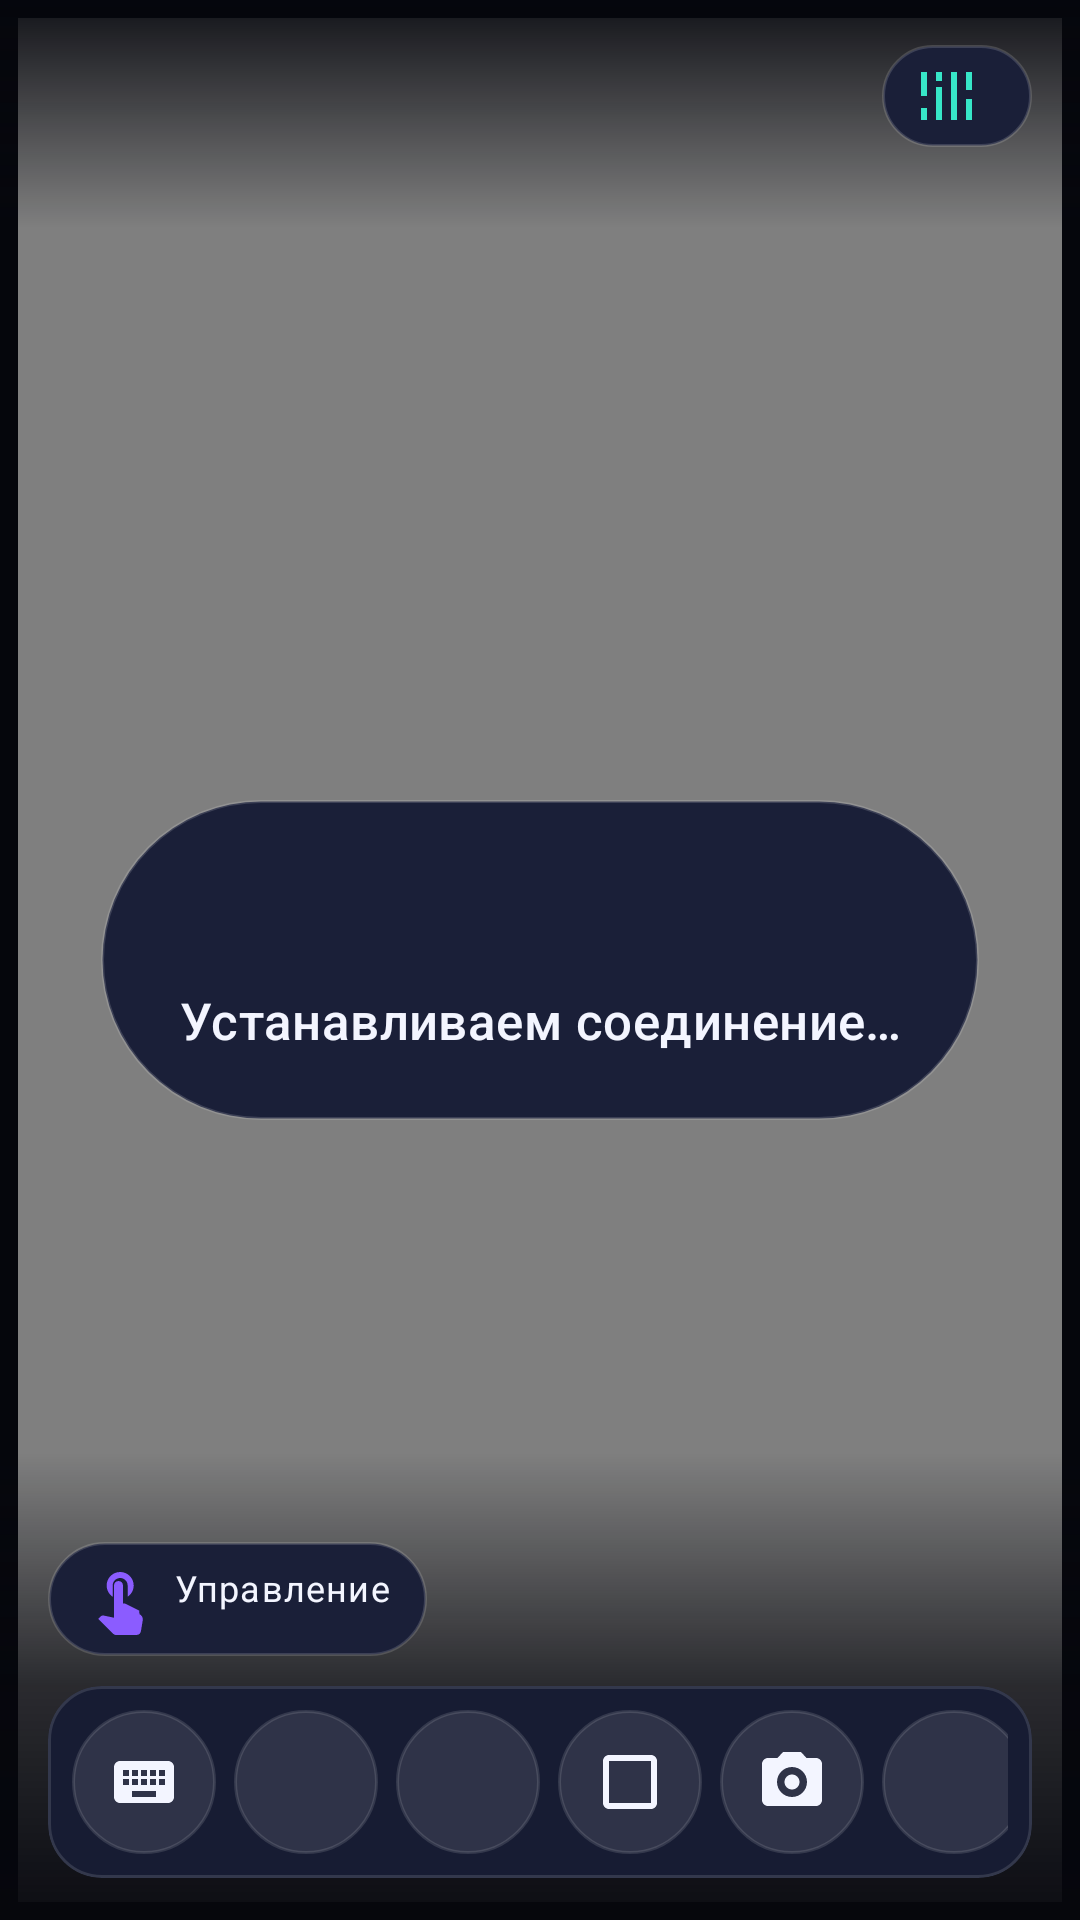

Icon bounding boxes for this 1080×1920 phone screenshot, format (x1, y1, x2, y2):
Клавиатура: (72, 1710, 216, 1854)
Недавние: (558, 1710, 702, 1854)
Снимок: (720, 1710, 864, 1854)
